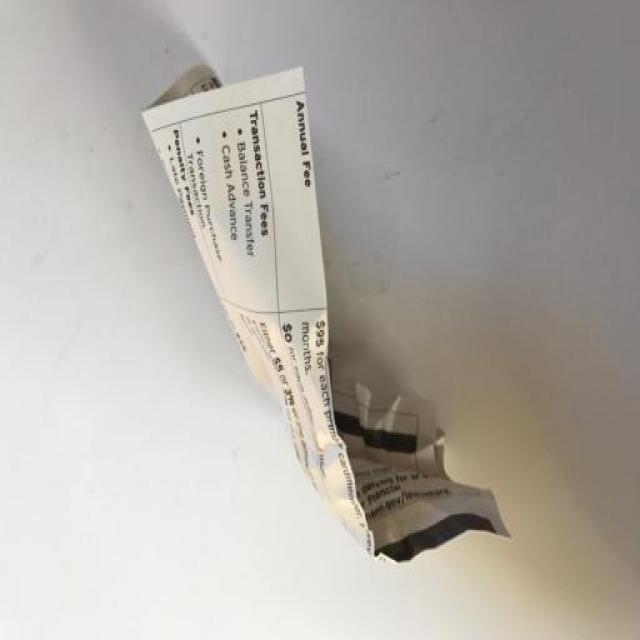paper: (146, 65, 547, 560)
